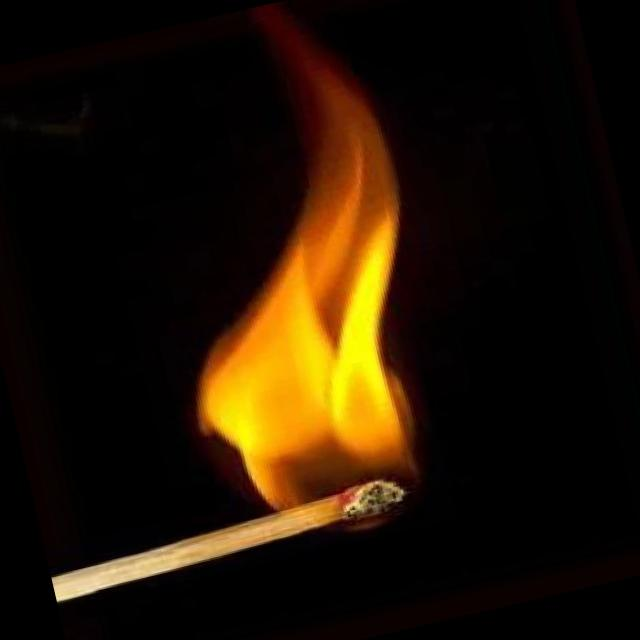Fire: (126, 0, 481, 555)
